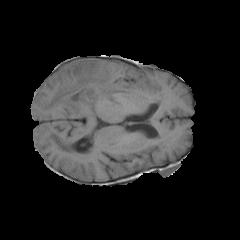glioma: (43, 60, 127, 117)
